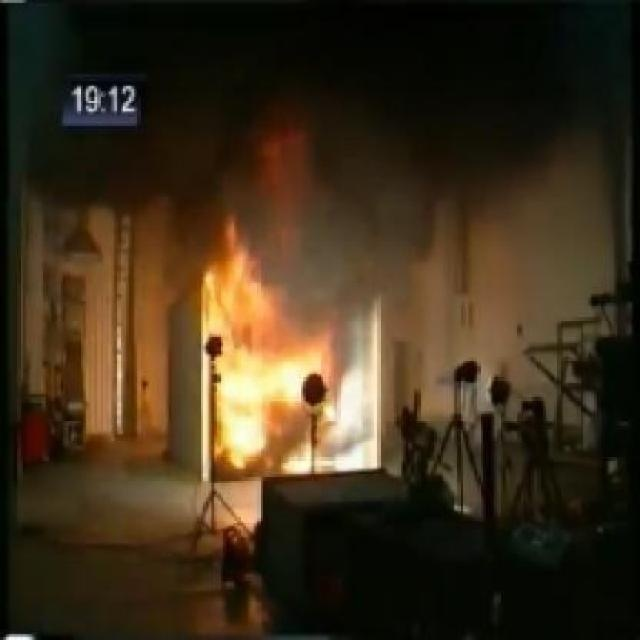fire: (207, 274, 338, 466)
smoke: (5, 4, 640, 270)
